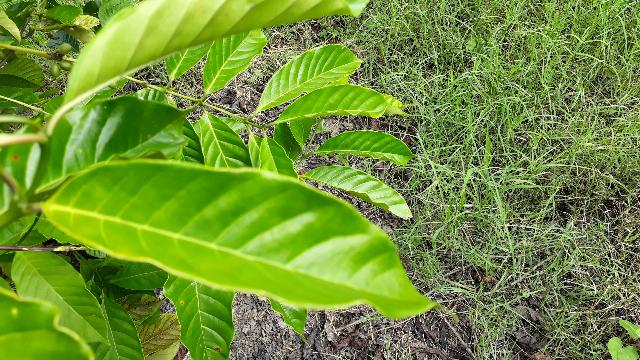healthy: (47, 164, 456, 319)
